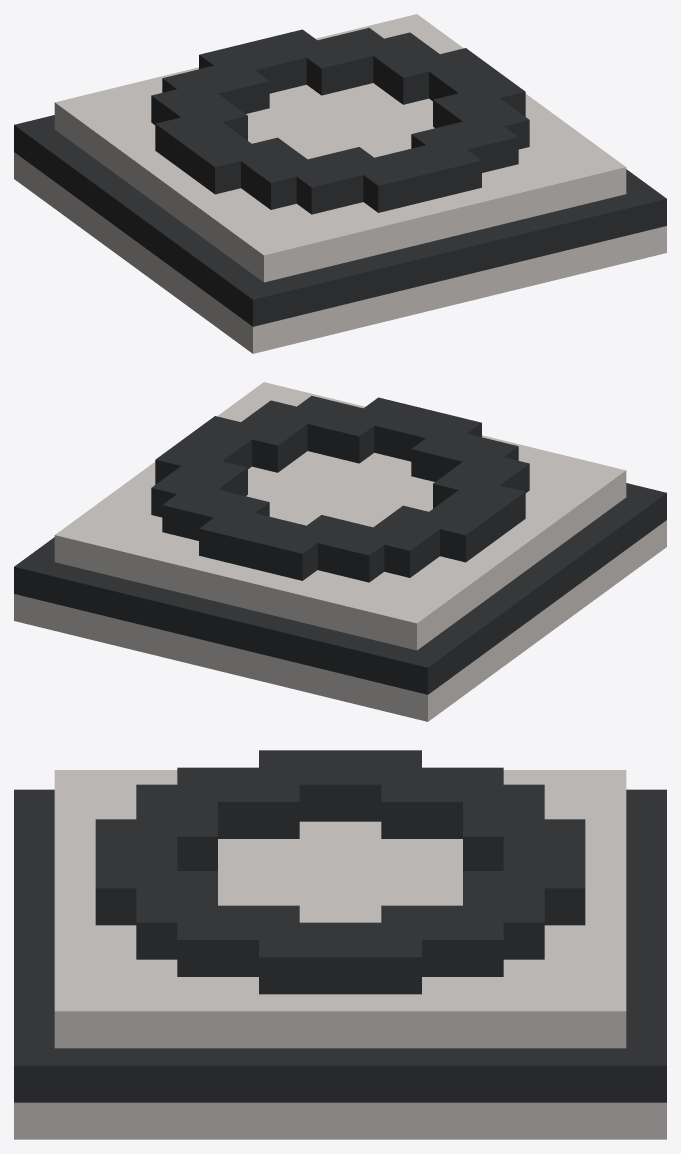
Rendered from o-v1-white-black.gltf.
3 views of the same model, one above another, from view 1: azimuth 30°, elevation 25°; view 2: azimuth 150°, elevation 25°; view 3: azimuth 270°, elevation 25° (orthographic). The views are drawn at different scales.
Visible parts, largest first — view 1: Untitled; view 2: Untitled; view 3: Untitled.
Part boxes in pixels (<box>): Untitled: <box>14,14,666,353</box>; Untitled: <box>14,382,666,721</box>; Untitled: <box>14,750,666,1139</box>.
Size of the model in its own units: 1.6 by 0.4 by 1.6.
Materials: 1 (1 with a texture image).
